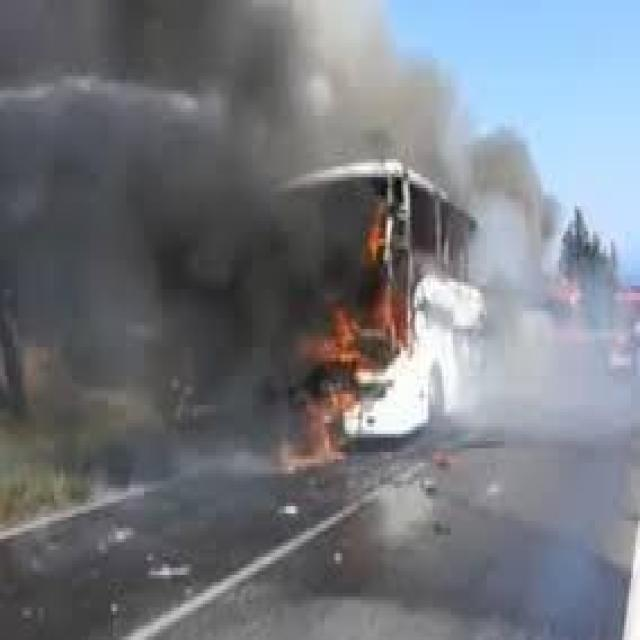fire: (290, 199, 430, 467)
smoke: (10, 1, 306, 443)
